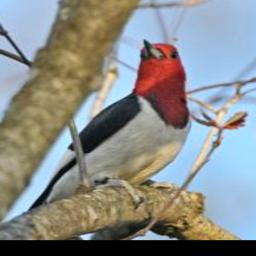Woodpecker: (16, 29, 201, 232)
